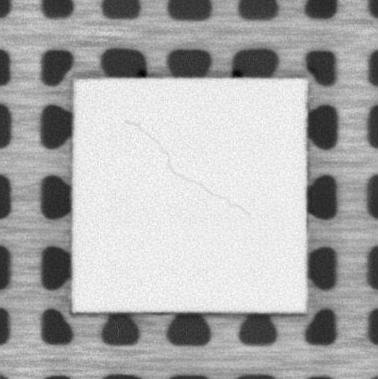DIE_CRACK: (126, 119, 251, 219)
